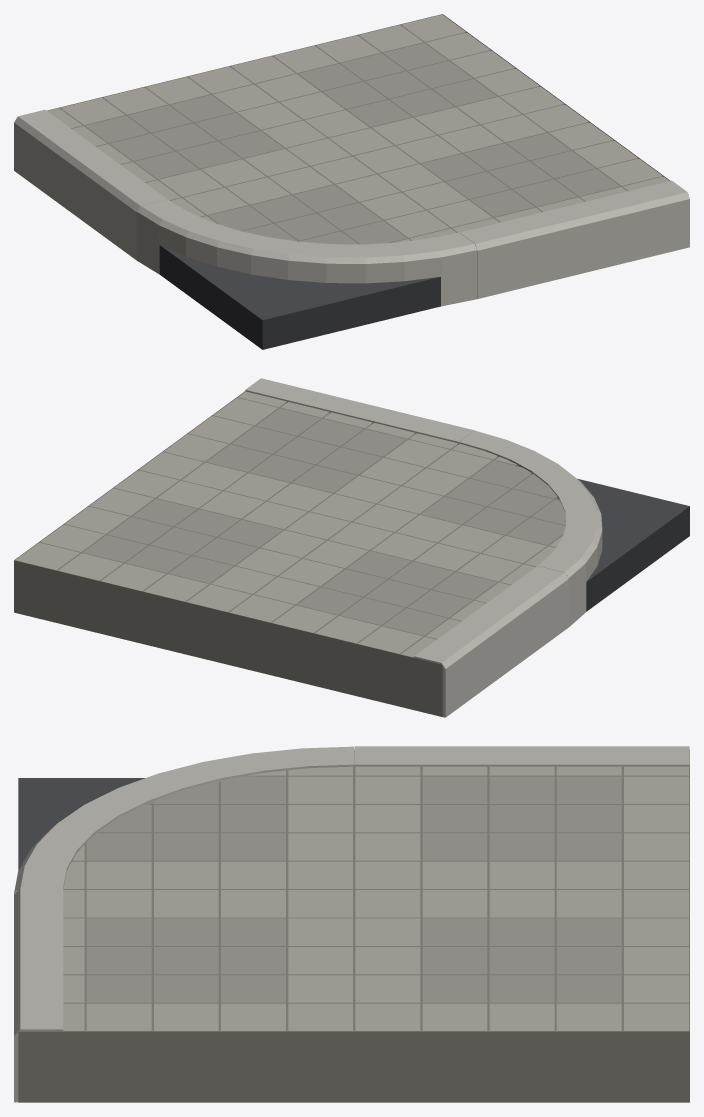
Rendered from SC_Gnd_Sidewalk_Corner_3x3.gltf.
The picture shows the model from 3 angles, top to bottom: view 1: azimuth 30°, elevation 25°; view 2: azimuth 150°, elevation 25°; view 3: azimuth 270°, elevation 25°; orthographic projection. The views are drawn at different scales.
Parts seen in each view (by area): view 1: SC_Gnd_Sidewalk_Corner_3x3; view 2: SC_Gnd_Sidewalk_Corner_3x3; view 3: SC_Gnd_Sidewalk_Corner_3x3.
Boxes of the visible parts, x1,y1,x2,y2 form: SC_Gnd_Sidewalk_Corner_3x3: [14, 14, 689, 349]; SC_Gnd_Sidewalk_Corner_3x3: [14, 378, 689, 717]; SC_Gnd_Sidewalk_Corner_3x3: [14, 746, 689, 1102].
Size of the model in its own units: 3.02 by 0.36 by 3.02.
1 material, 1 textured.
